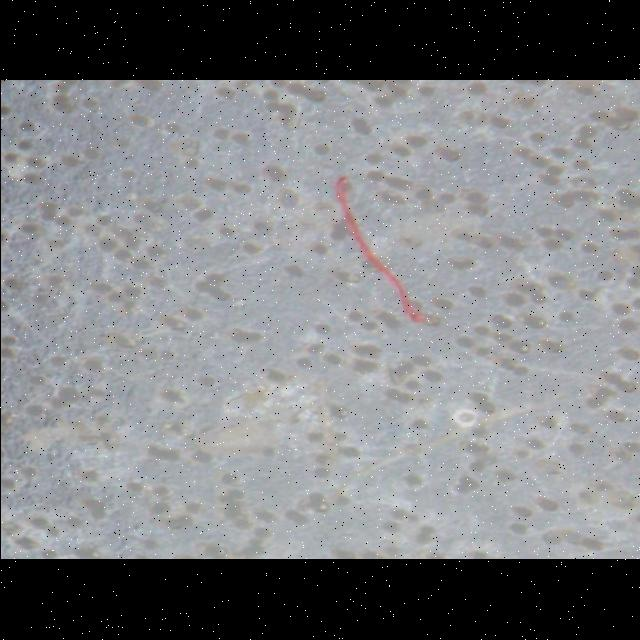Fibre: (333, 176, 437, 326)
